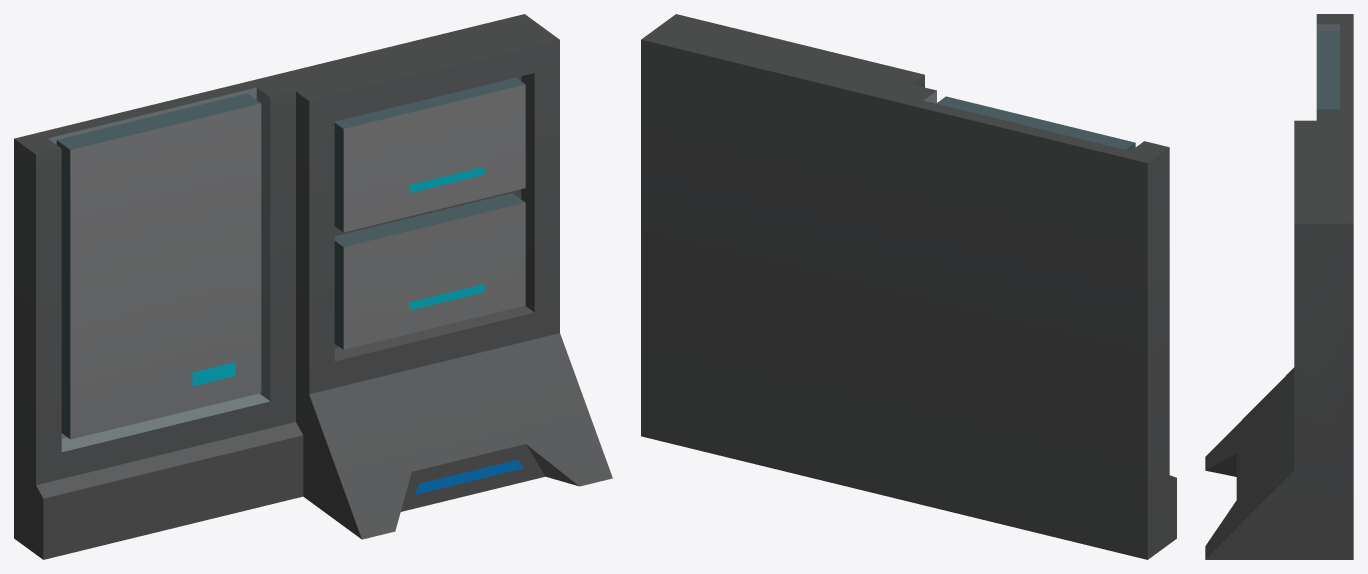
The model's file is Wall_type_B_037.fbx.
3 renders of one model, left to right at view 1: azimuth 30°, elevation 25°; view 2: azimuth 150°, elevation 25°; view 3: azimuth 270°, elevation 25°, orthographic. The views are drawn at different scales.
Parts seen in each view (by area): view 1: Wall_type_B_037; view 2: Wall_type_B_037; view 3: Wall_type_B_037.
Part boxes in pixels (bbox=[...]): Wall_type_B_037: bbox=[14, 14, 612, 559]; Wall_type_B_037: bbox=[641, 14, 1176, 559]; Wall_type_B_037: bbox=[1205, 14, 1353, 559].
Bounding box in the file's own units: 201 × 60 × 150.
